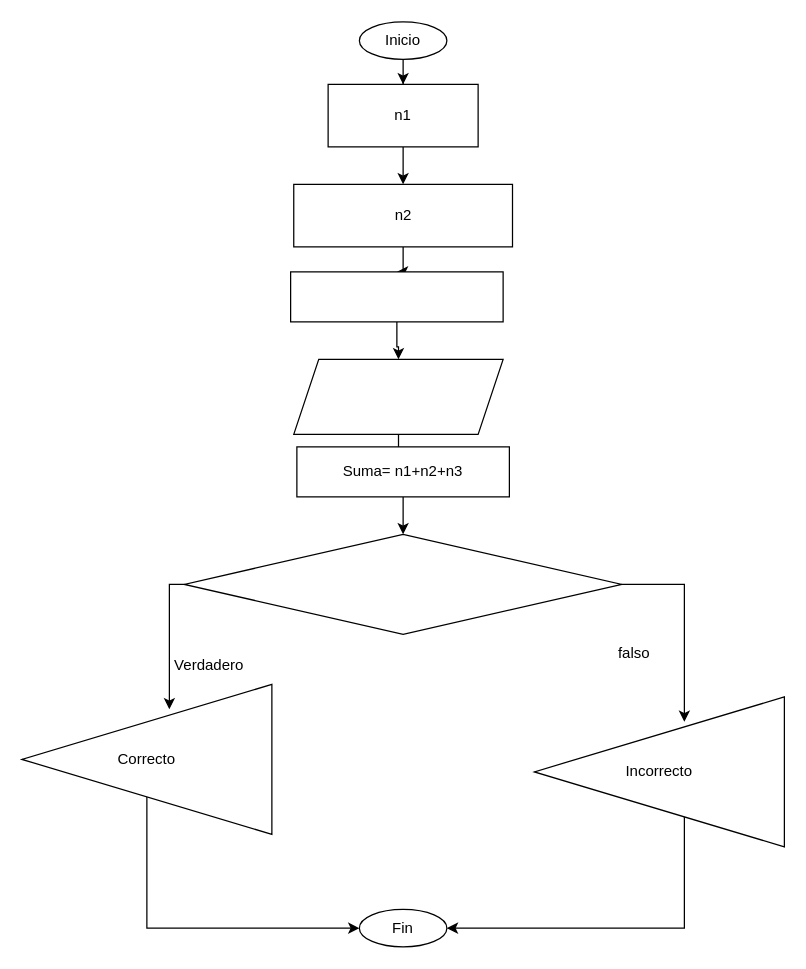
This 806x969 diagram has some shape labels left out. Each missing label, with the centre of its shape:
(n1 = 30) || (n2 = 30) || (n3 = 30) || (suma = 30): point 402,583
Ingresar tres numeros: point 397,396
n3: point 396,296
